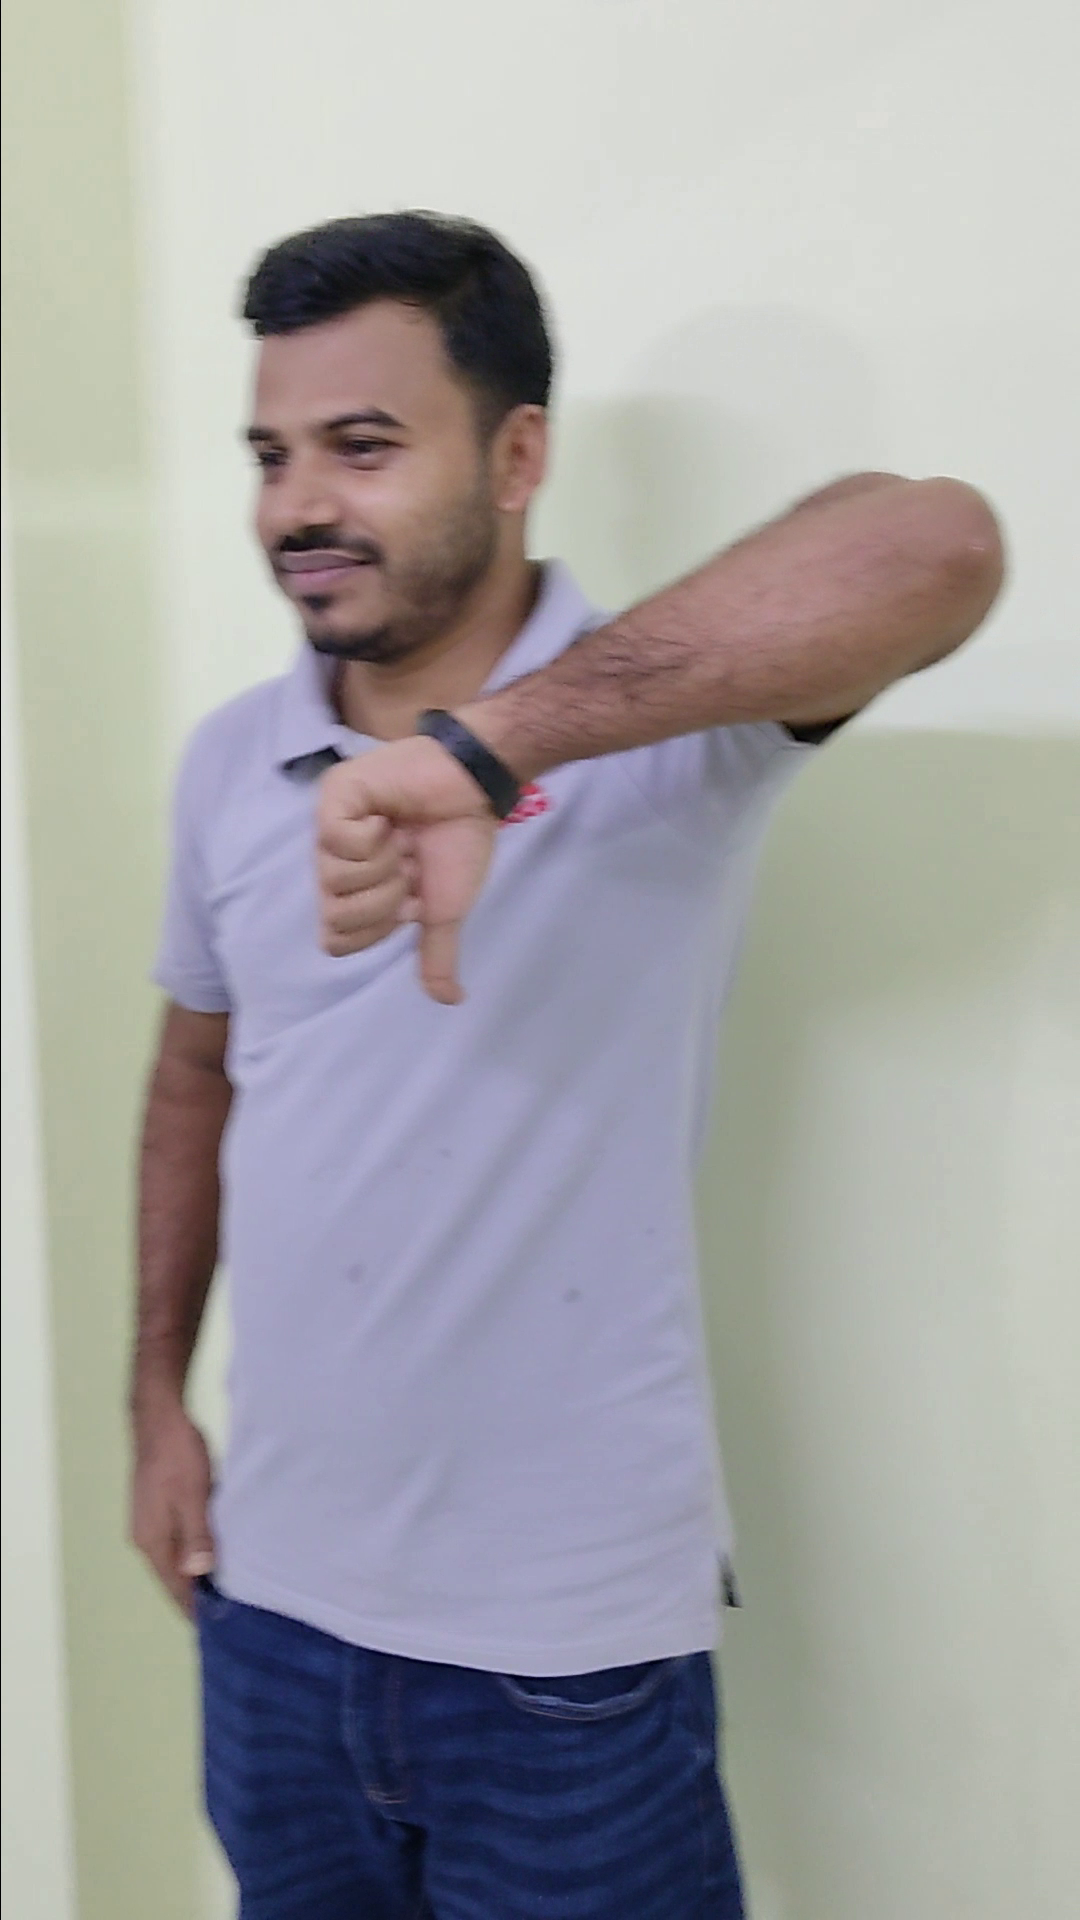Dislike: (295, 705, 525, 1030)
None: (108, 1360, 255, 1654)
